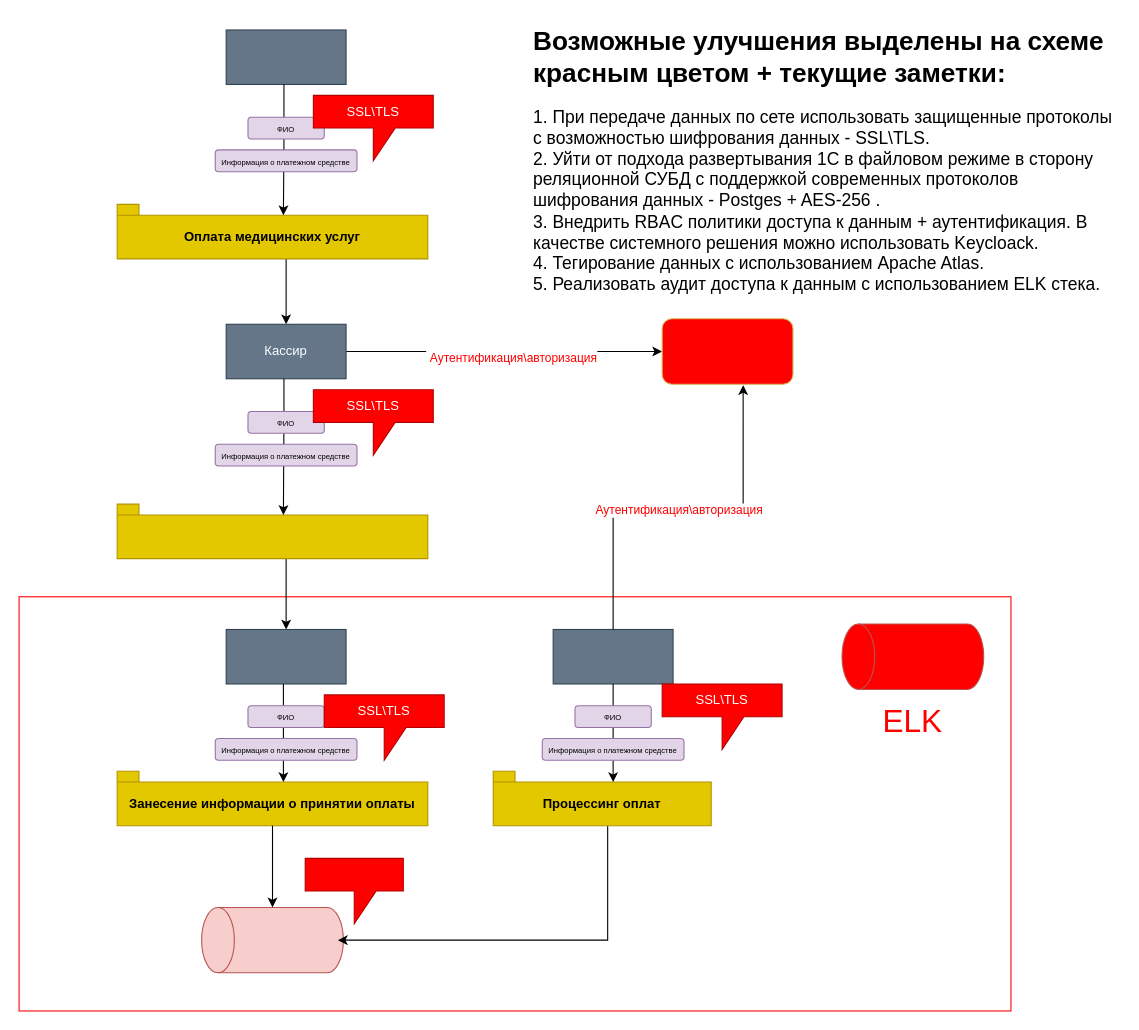
Image size: 1139x1030. Some labels were removed from this diagram. Each missing label, with the box of its shape:
1С Бухгалтерия Файловое хранилище: (201, 906, 343, 973)
Keycloack: (661, 318, 793, 384)
OPENSEARCH: (841, 623, 984, 689)
Postgres + AES-256: (304, 857, 403, 924)
Бухгалтер: (552, 628, 673, 684)
ККМ: (225, 628, 346, 684)
Пациент: (225, 29, 346, 84)
Принятие оплаты: (116, 503, 428, 559)
